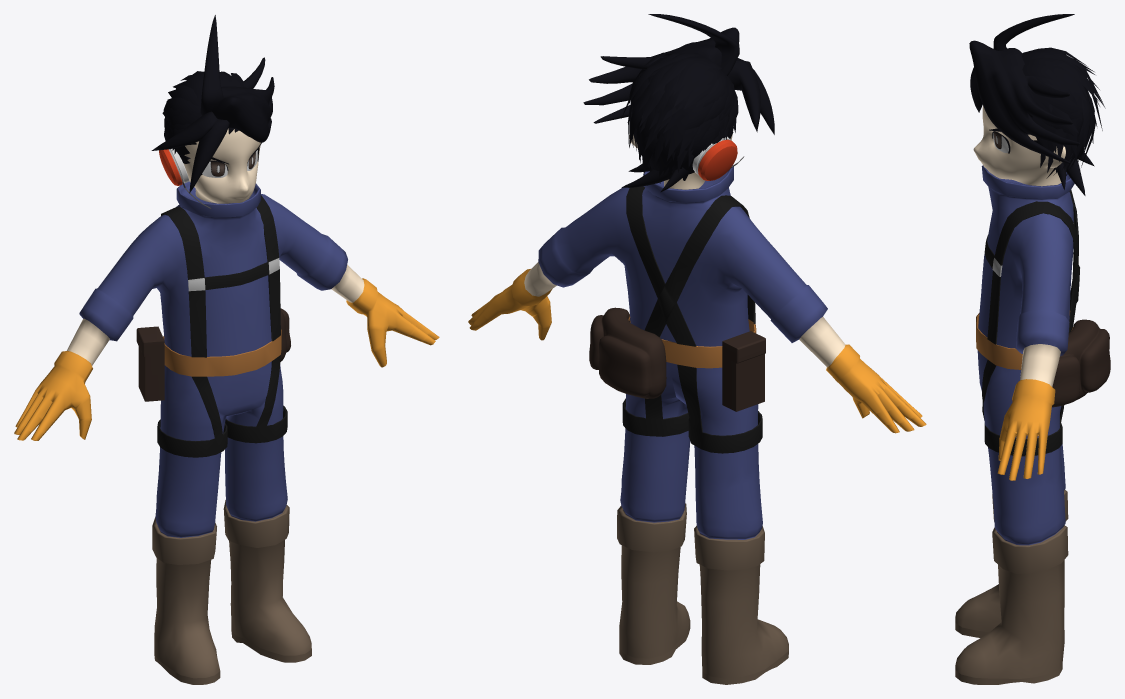
Rendered from mowi.fbx.
3 renders of one model, left to right at view 1: azimuth 30°, elevation 25°; view 2: azimuth 150°, elevation 25°; view 3: azimuth 270°, elevation 25°, orthographic. The views are drawn at different scales.
Parts seen in each view (by area): view 1: body, harness, head1, bangs1, backhair, pouch2, bangs2, bangs3, bangs4, income; view 2: body, harness, backhair, pouch1, pouch2, bangs1, income, bangs4, bangs2, collar; view 3: body, bangs1, backhair, harness, pouch1, head1, bangs2, collar, bangs3.
Part boxes in pixels (left/top/right/bottom): body: left=14, top=181, right=439, bottom=684; harness: left=157, top=195, right=287, bottom=457; head1: left=183, top=128, right=260, bottom=203; bangs1: left=212, top=57, right=274, bottom=142; backhair: left=162, top=71, right=243, bottom=154; pouch2: left=136, top=326, right=164, bottom=401; bangs2: left=200, top=15, right=223, bottom=115; bangs3: left=189, top=119, right=229, bottom=193; bangs4: left=151, top=111, right=217, bottom=150; income: left=159, top=148, right=211, bottom=208; body: left=468, top=165, right=926, bottom=684; harness: left=622, top=186, right=762, bottom=453; backhair: left=622, top=52, right=738, bottom=183; pouch1: left=589, top=307, right=666, bottom=398; pouch2: left=722, top=331, right=765, bottom=411; bangs1: left=583, top=27, right=739, bottom=123; income: left=692, top=136, right=744, bottom=180; bangs4: left=728, top=59, right=760, bottom=132; bangs2: left=648, top=14, right=739, bottom=75; collar: left=621, top=163, right=692, bottom=192; body: left=955, top=165, right=1074, bottom=684; bangs1: left=969, top=40, right=1079, bottom=163; backhair: left=1022, top=47, right=1105, bottom=178; harness: left=976, top=189, right=1079, bottom=456; pouch1: left=1052, top=319, right=1110, bottom=407; head1: left=973, top=105, right=1065, bottom=186; bangs2: left=993, top=14, right=1074, bottom=50; collar: left=1057, top=151, right=1094, bottom=195; bangs3: left=970, top=67, right=982, bottom=112.
Size of the model in its own units: 138 by 191 by 41.77.
